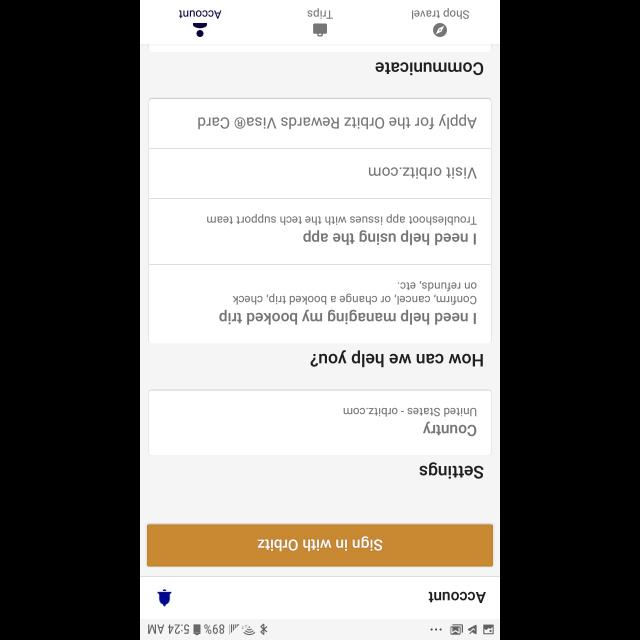icon: (156, 589, 172, 607), (193, 23, 207, 37), (432, 23, 446, 37), (313, 24, 327, 36)
text: (232, 280, 476, 306), (198, 114, 477, 130), (218, 309, 476, 325), (207, 214, 477, 226), (310, 349, 482, 367), (302, 230, 476, 246), (375, 62, 483, 76), (369, 167, 477, 180), (344, 407, 476, 417), (419, 462, 483, 478), (423, 422, 477, 436), (428, 591, 486, 603), (411, 8, 469, 20), (178, 10, 222, 20), (307, 8, 333, 20)
textbutton: (147, 524, 493, 566)
uppertaskbar: (140, 618, 500, 640)
